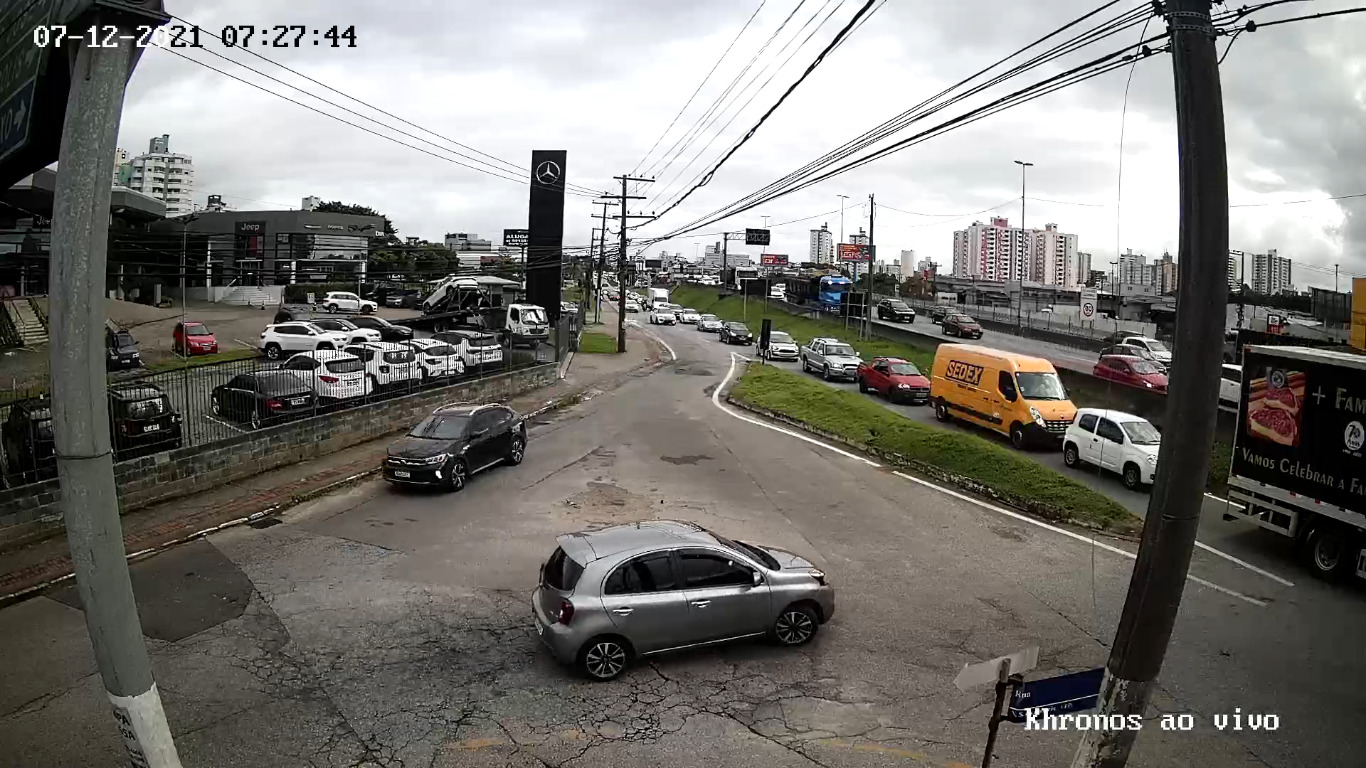car: (531, 519, 834, 683), (383, 399, 527, 492)
